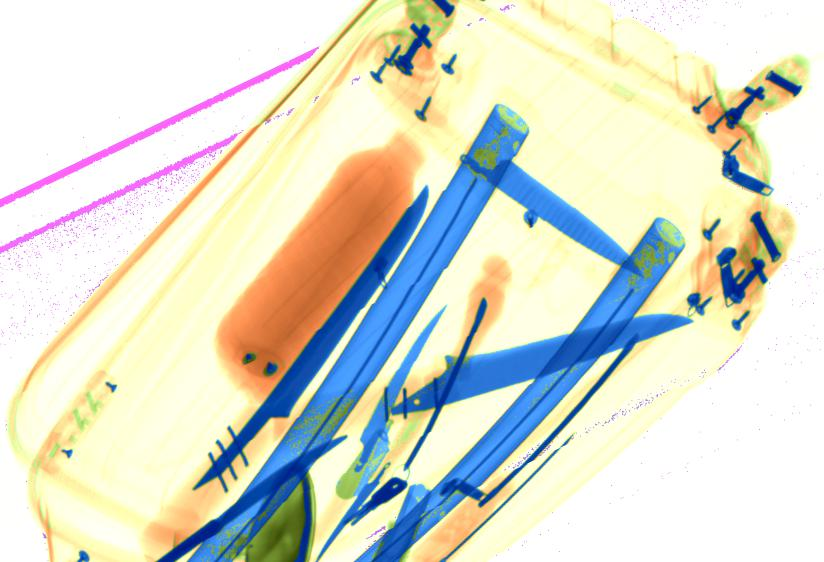Knife: (191, 184, 431, 492), (389, 313, 696, 416), (456, 135, 645, 283), (155, 432, 349, 562), (339, 304, 449, 496)
